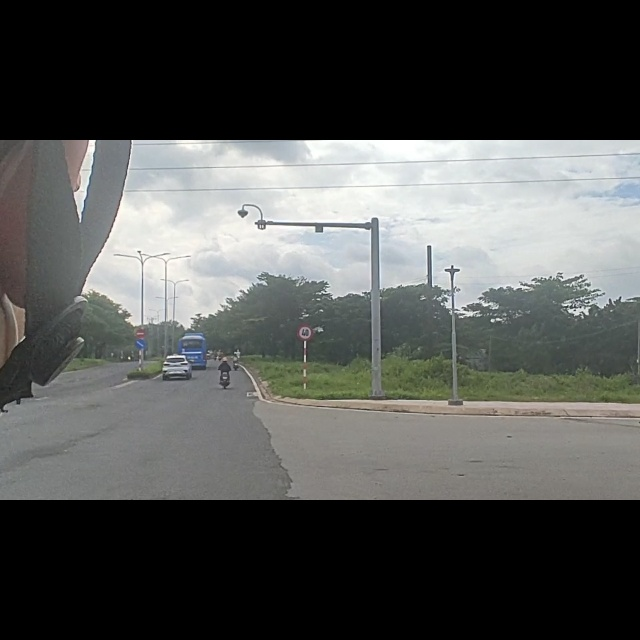bien_cam: (295, 327, 313, 356), (135, 351, 147, 371), (135, 332, 146, 352)
